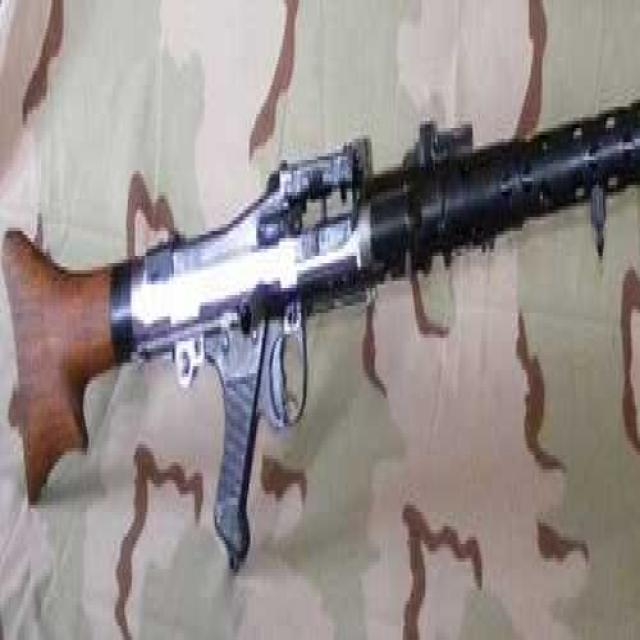Rifle: (4, 68, 640, 562)
